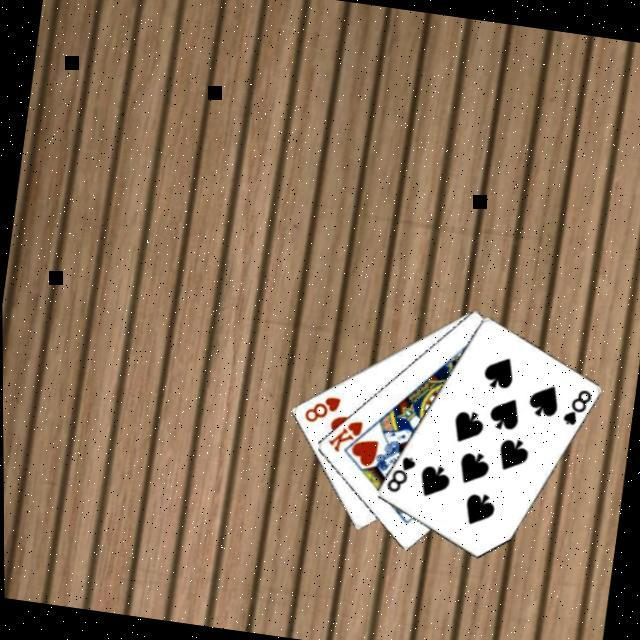8H: (301, 388, 344, 428)
8S: (559, 382, 596, 430), (382, 450, 420, 496)
KH: (324, 412, 367, 457)
